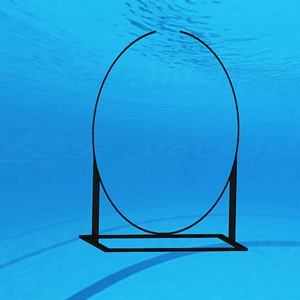circle: (78, 28, 249, 254)
